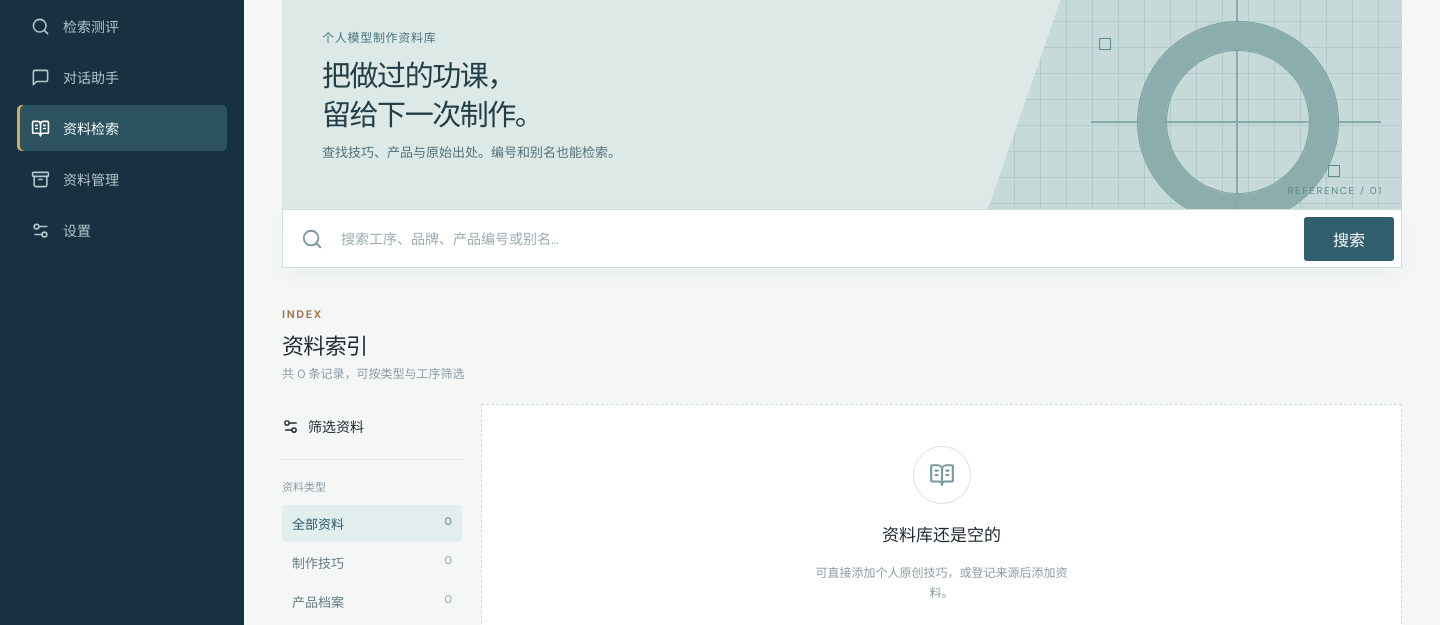
it: replaces replayed stream snapshots and retains partial output after stopping
Click the button "对话助手" at (122, 77), box [17,54,227,100]
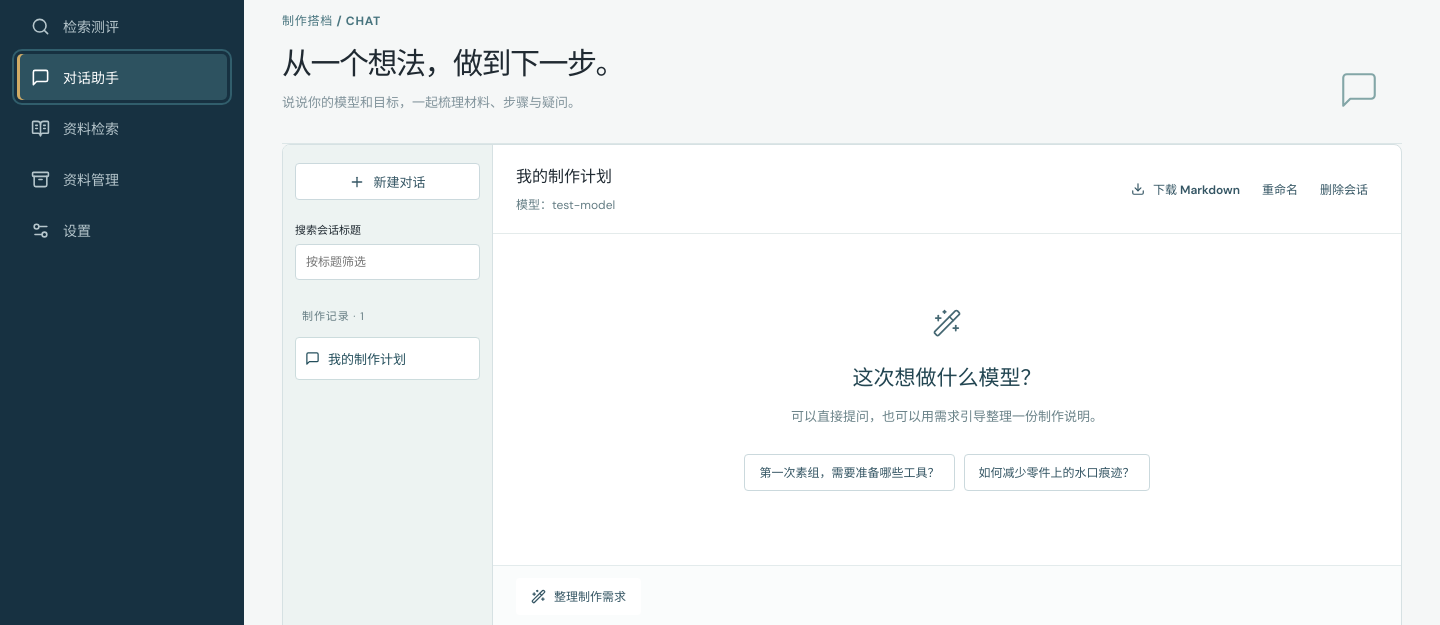
Expected: the button "我的制作计划" is shown
Click the button "我的制作计划" at (388, 358), box [295,337,480,380]
(page scrolled)
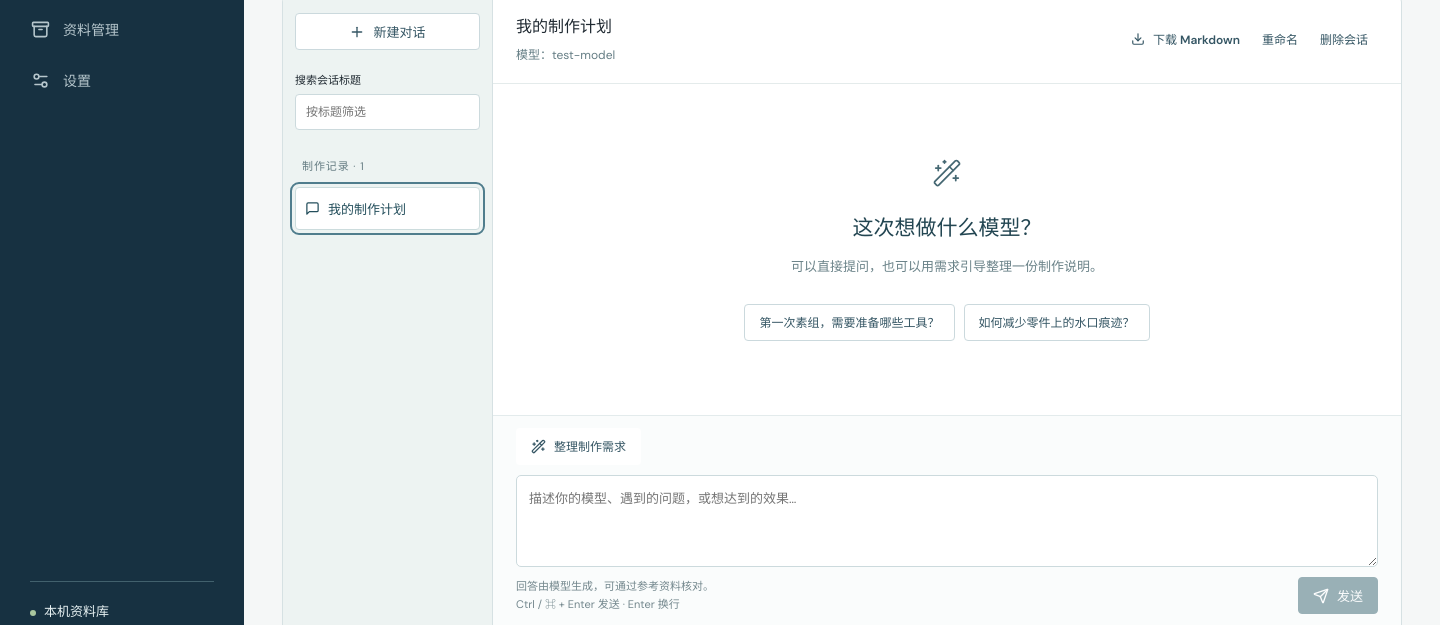
Expected: the text box named "制作问题或补充要求" is enabled
Type "怎样处理水口？" into the text box named "制作问题或补充要求" at (947, 521), box [516,475,1378,567]
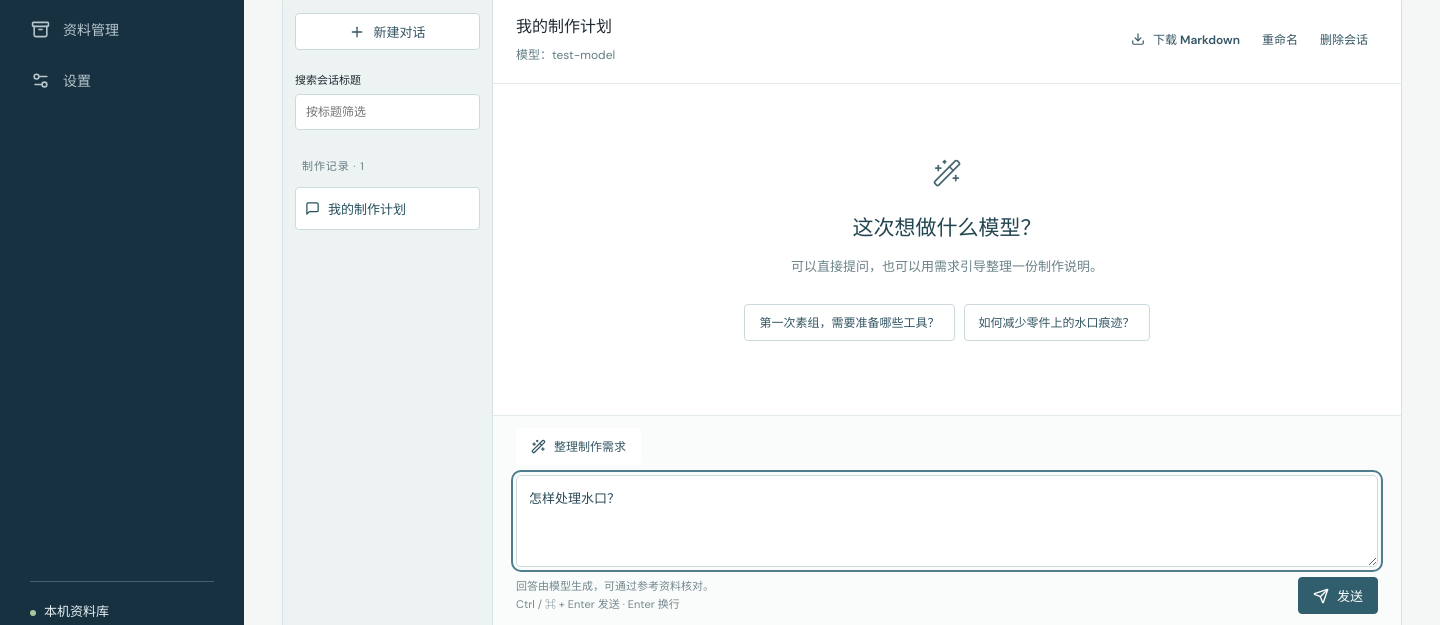
Click the button "发送" at (1338, 596), box [1298,577,1378,614]
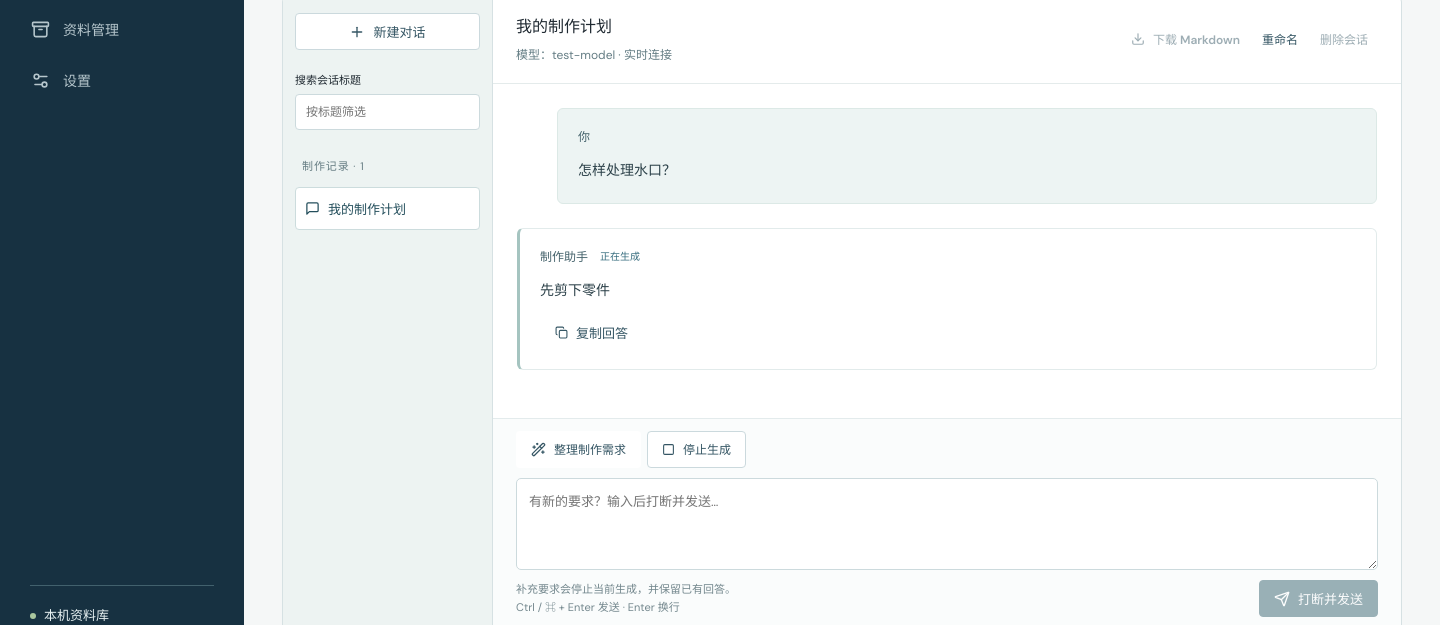
Expected: the text "先剪下零件" is shown, [540,281,610,299]
Click the button "停止生成" at (696, 450), box [647,431,746,468]
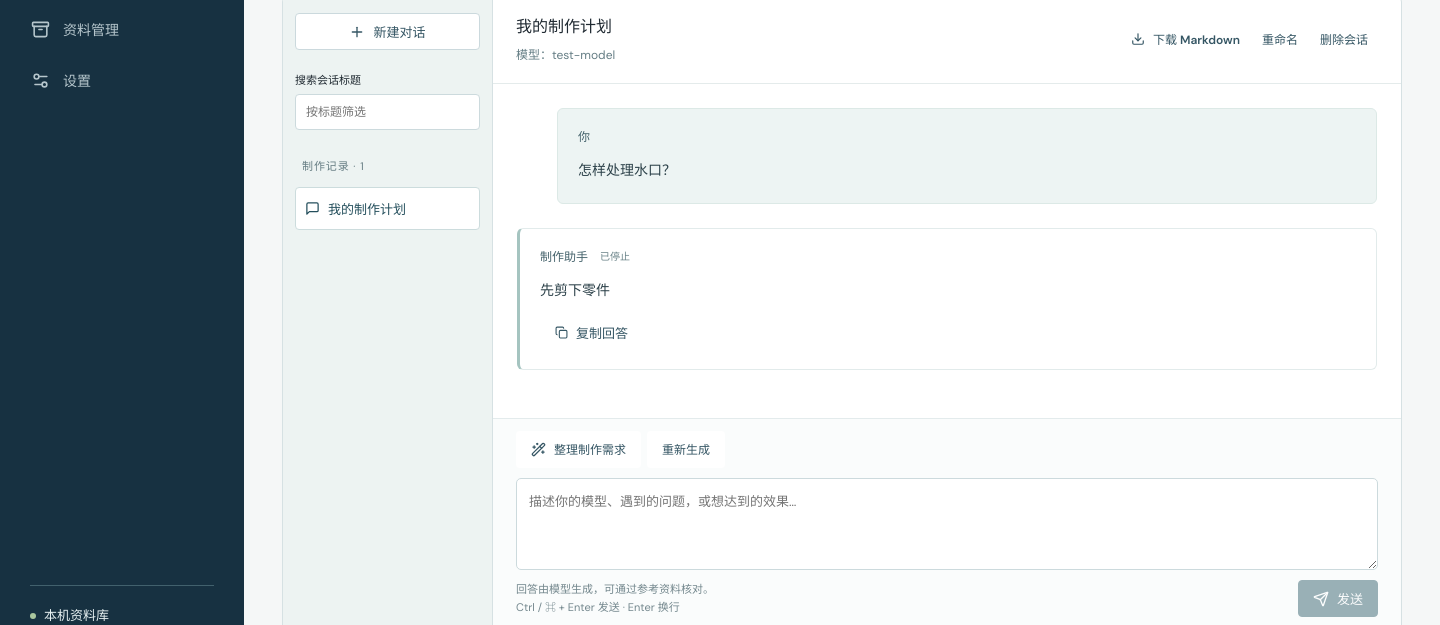
Expected: the text "先剪下零件" is shown, [540,281,610,299]
Expected: the text "已停止" is shown, [600,248,630,263]
